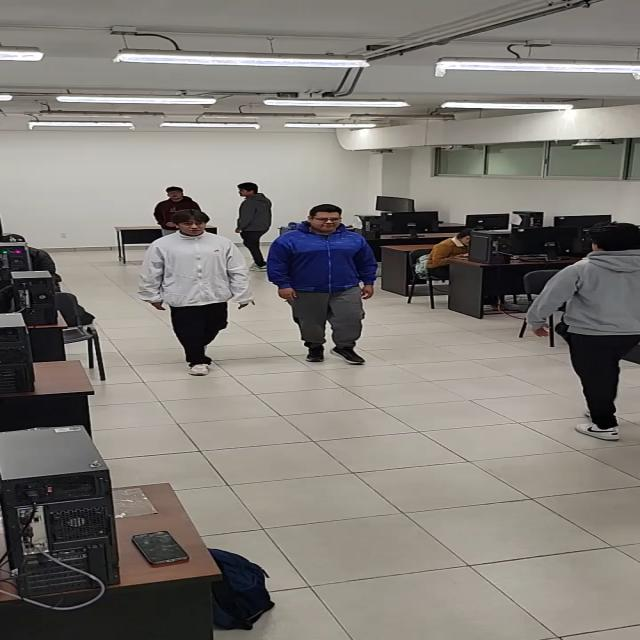Persona: (531, 222, 640, 449), (146, 208, 249, 383), (272, 200, 373, 377), (231, 179, 274, 267), (158, 179, 202, 232)
